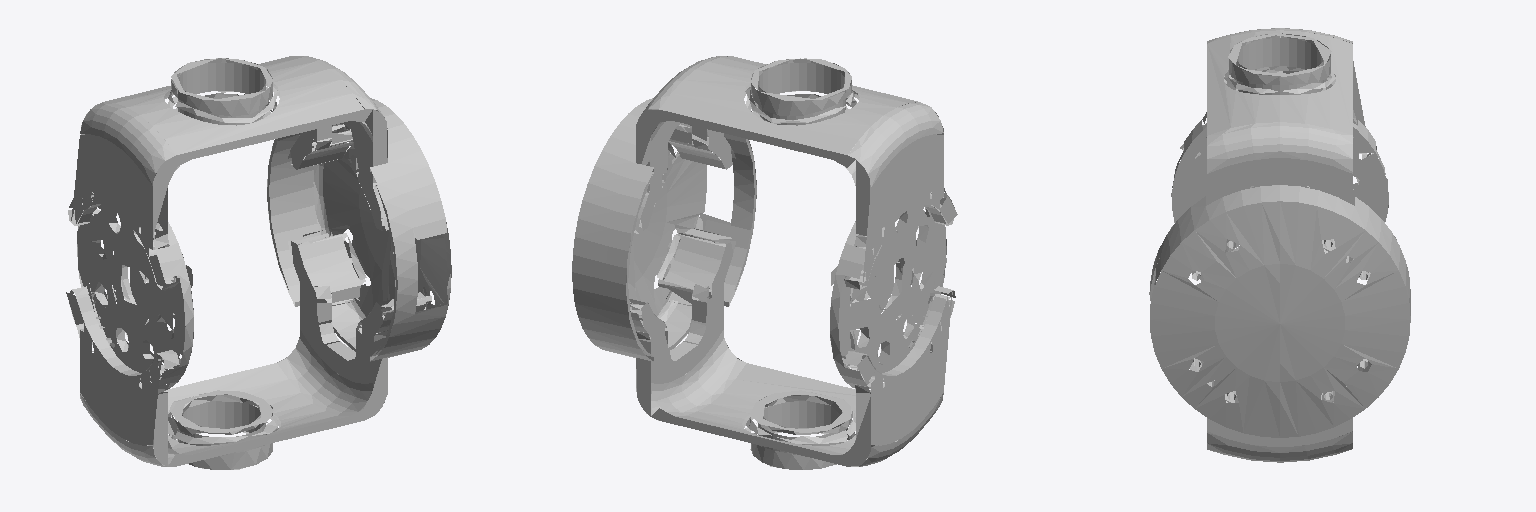
The model's file is ankle.stl.obj.
3 views of the same model, side by side, from view 1: azimuth 30°, elevation 25°; view 2: azimuth 150°, elevation 25°; view 3: azimuth 270°, elevation 25° (orthographic).
Parts seen in each view (by area): view 1: <STL_BINARY>; view 2: <STL_BINARY>; view 3: <STL_BINARY>.
Boxes of the visible parts, x1=… form: <STL_BINARY>: x1=66, y1=56, x2=451, y2=469; <STL_BINARY>: x1=572, y1=56, x2=957, y2=469; <STL_BINARY>: x1=1149, y1=28, x2=1410, y2=462.
Size of the model in its own units: 0.0951 by 0.12 by 0.0771.